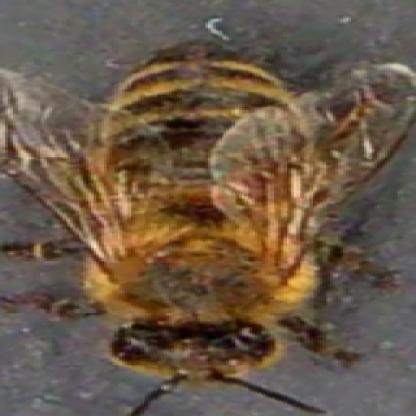bee: (66, 38, 363, 389)
